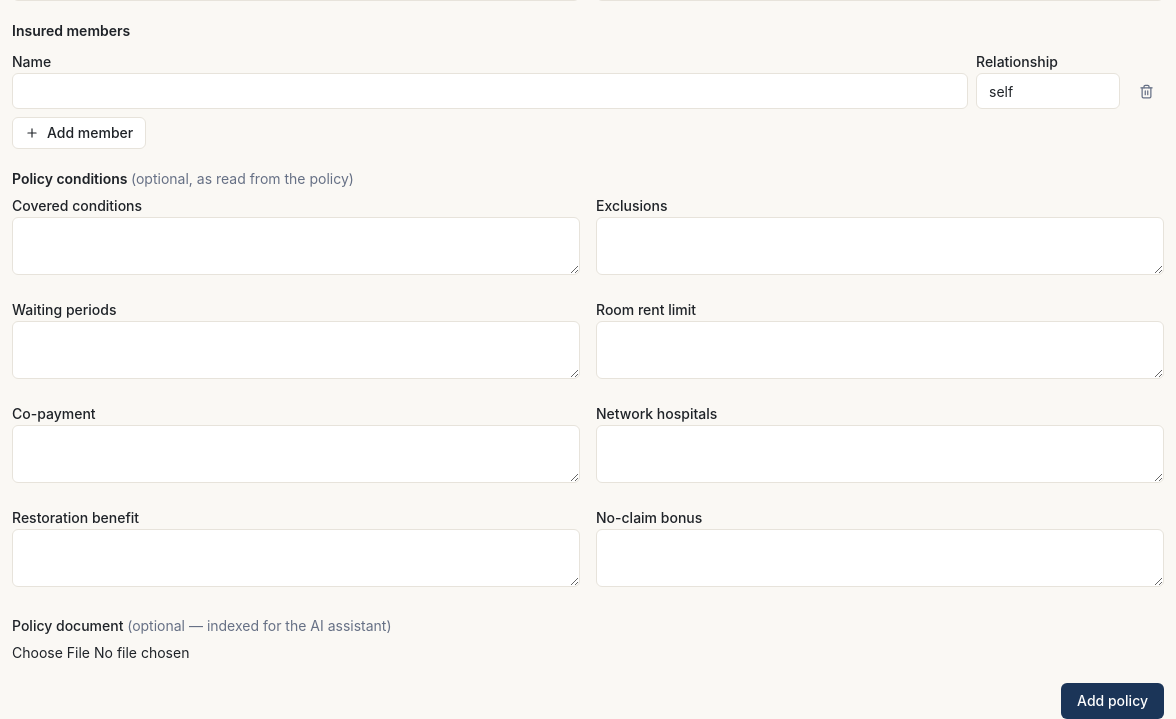
PolicyForm › shows validation errors and does not call the API
(page scrolled)
Click the button "Add policy" at (1113, 701), box [1061,683,1164,718]
(page scrolled)
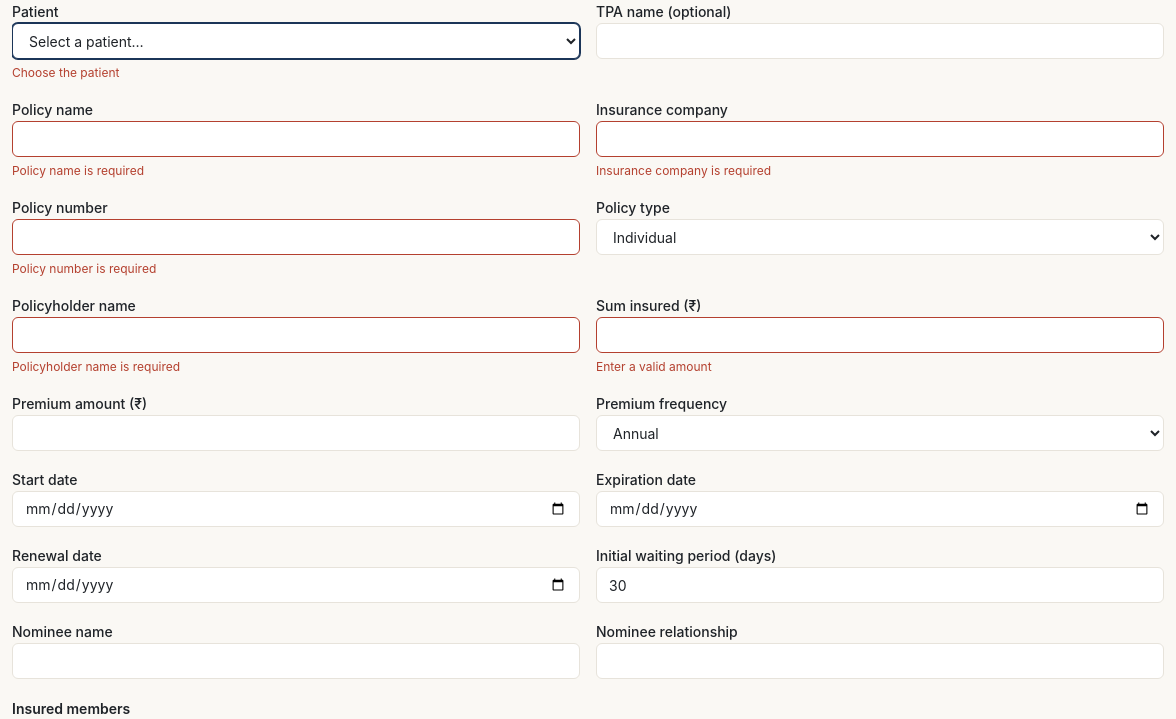
Now the text "Policy name is required" is shown, box [12,163,144,178]
Now the text "Choose the patient" is shown, box [12,65,119,80]
Now the text "Insurance company is required" is shown, box [596,163,771,178]
